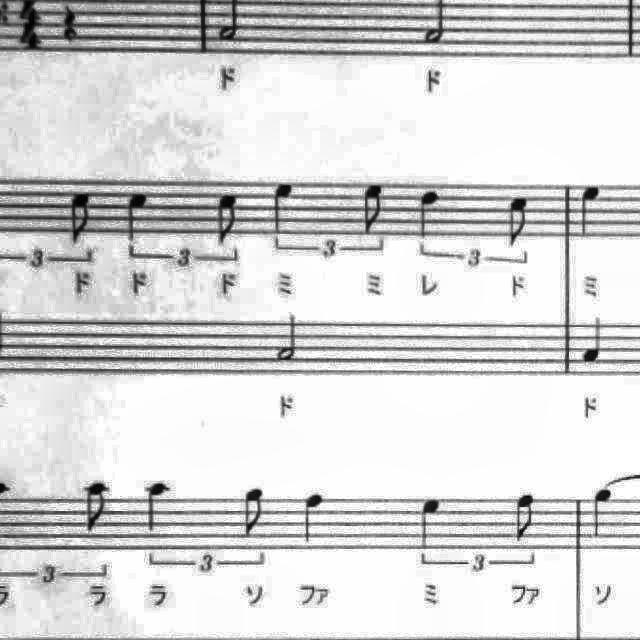Eighth-note: (61, 186, 99, 250), (235, 482, 272, 546), (354, 178, 390, 240), (76, 473, 112, 535), (209, 187, 243, 251), (508, 488, 544, 548), (504, 190, 536, 250)
Half-note: (271, 310, 305, 366)
Quarter-note: (411, 491, 449, 561), (295, 486, 333, 550), (120, 185, 156, 251), (265, 178, 301, 244), (139, 474, 177, 536), (410, 184, 446, 246), (584, 484, 620, 544), (572, 182, 606, 245), (579, 314, 613, 370)
Quarter-rest: (54, 1, 86, 51)
